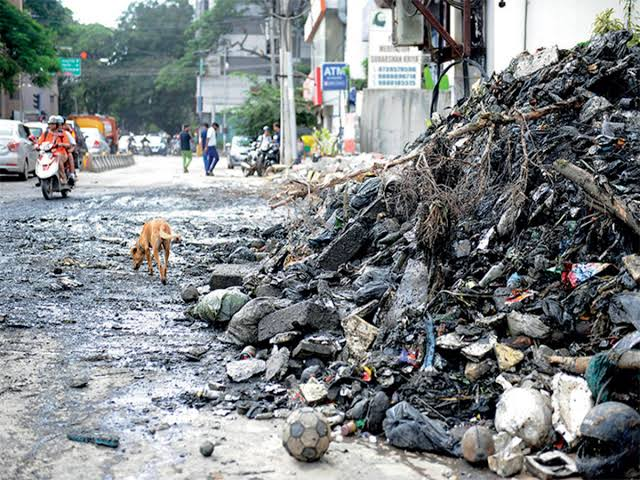garbage: (282, 173, 640, 460), (443, 68, 640, 467), (196, 206, 640, 351)
